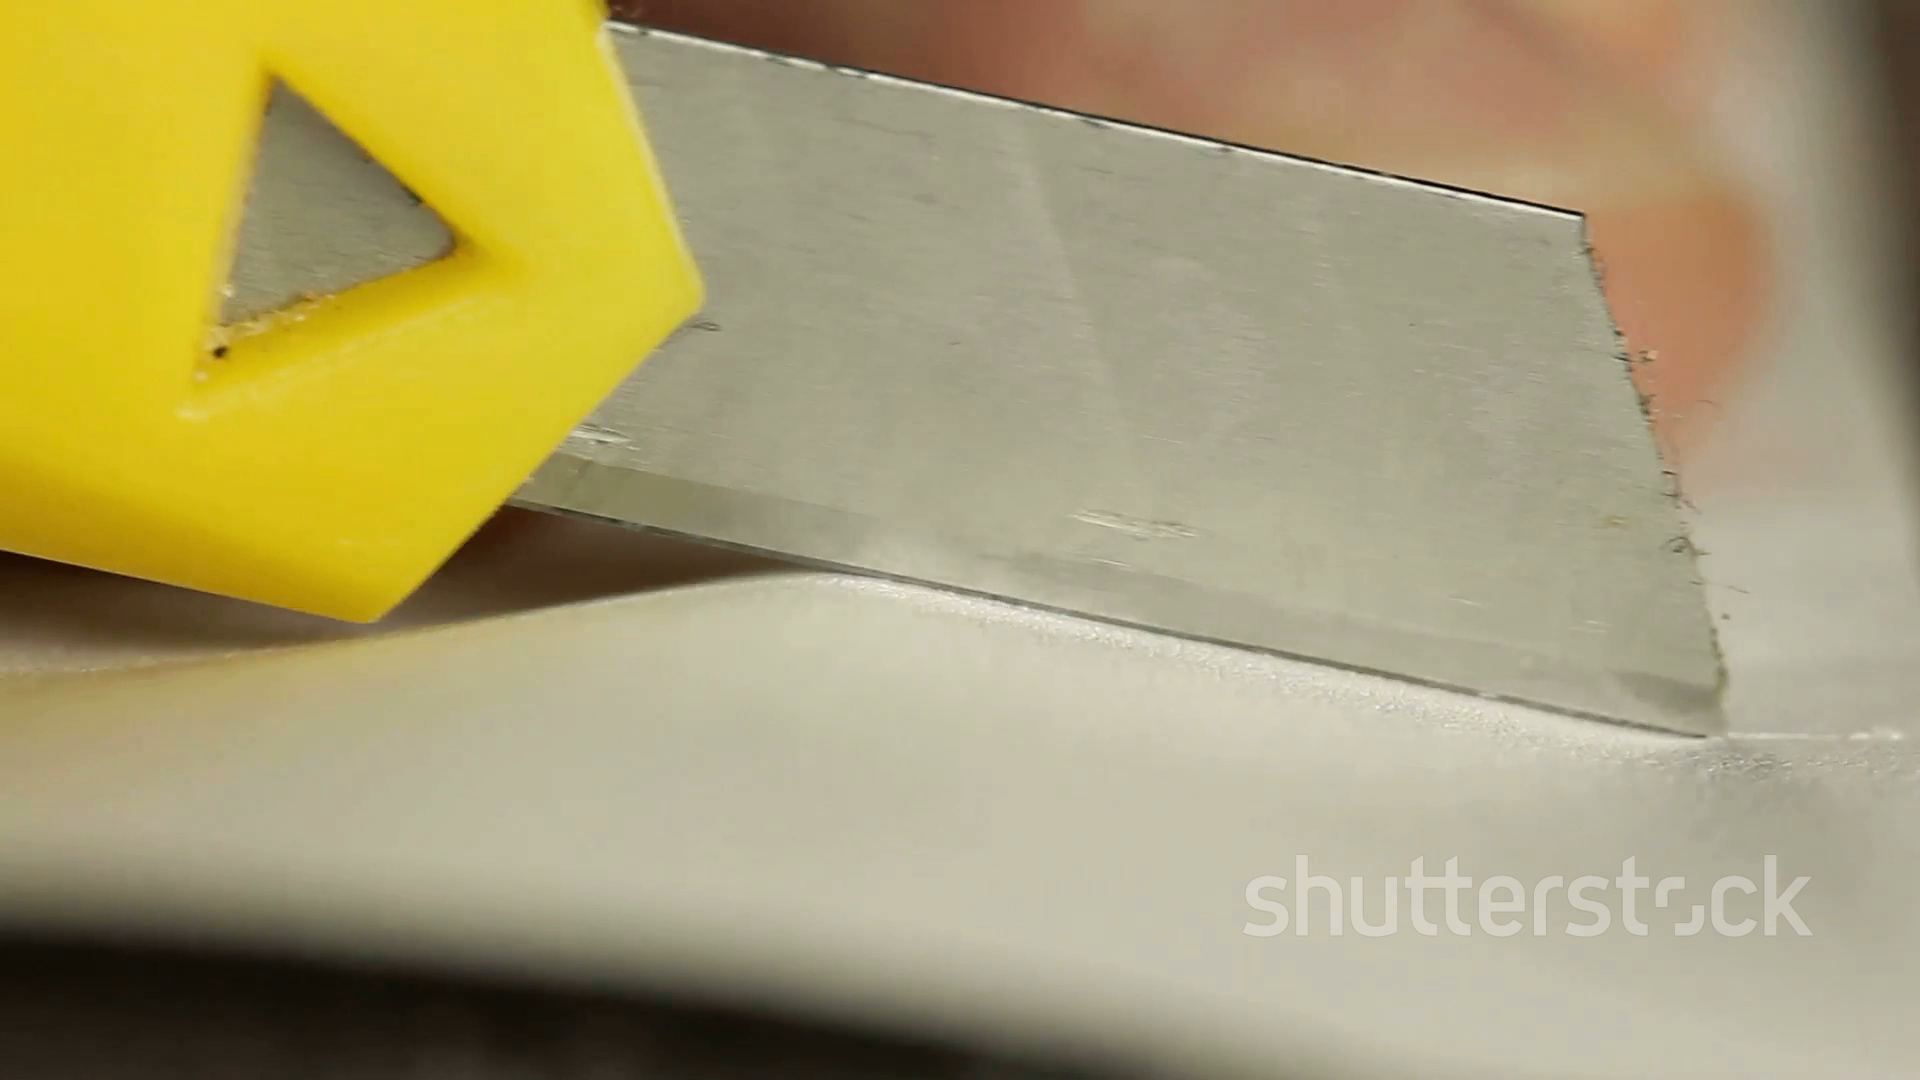cortante: (510, 20, 1722, 738)
